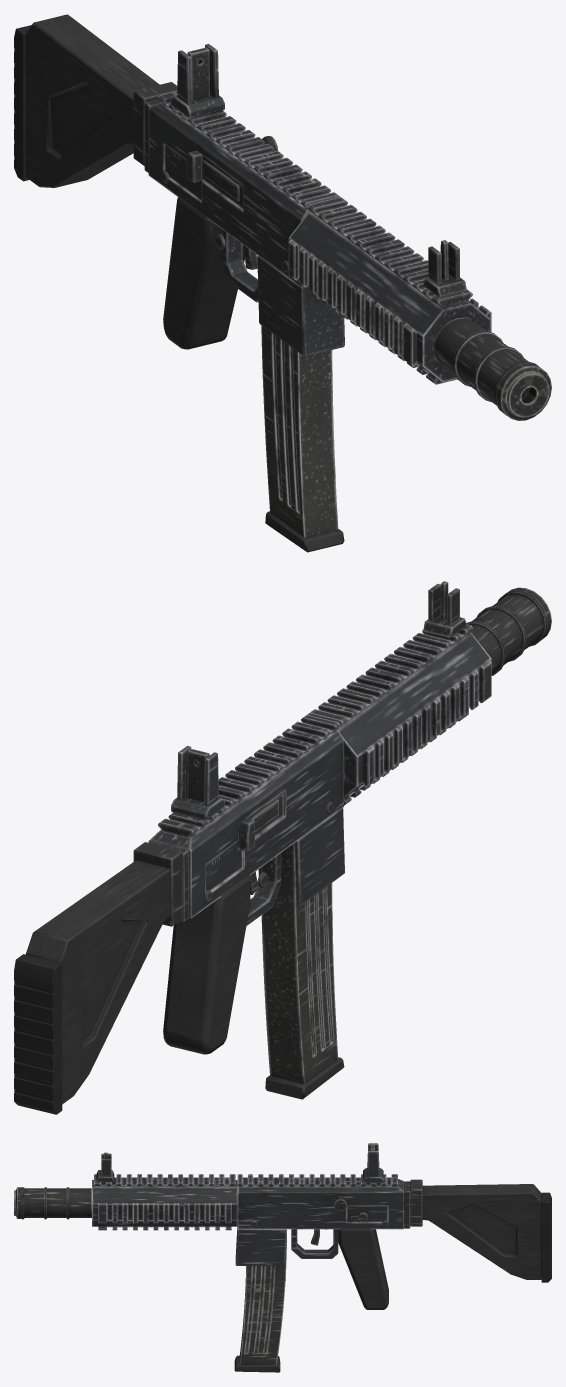
The model's file is tactical_smg.glb.
3 views of the same model, one above another, from view 1: azimuth 30°, elevation 25°; view 2: azimuth 150°, elevation 25°; view 3: azimuth 270°, elevation 25° (orthographic). The views are drawn at different scales.
Visible parts, largest first — view 1: body, magazine, rear_sight; view 2: body, magazine, rear_sight; view 3: body, magazine, rear_sight.
Part boxes in pixels (x1=…): body: x1=14, y1=14, x2=551, y2=420; magazine: x1=261, y1=325, x2=344, y2=552; rear_sight: x1=171, y1=43, x2=224, y2=118; body: x1=14, y1=581, x2=551, y2=1114; magazine: x1=261, y1=843, x2=344, y2=1099; rear_sight: x1=171, y1=745, x2=224, y2=820; body: x1=14, y1=1152, x2=551, y2=1309; magazine: x1=234, y1=1234, x2=286, y2=1372; rear_sight: x1=363, y1=1143, x2=383, y2=1182.
Size of the model in its own units: 0.0515 by 0.237 by 0.524.
1 material, 1 textured.
